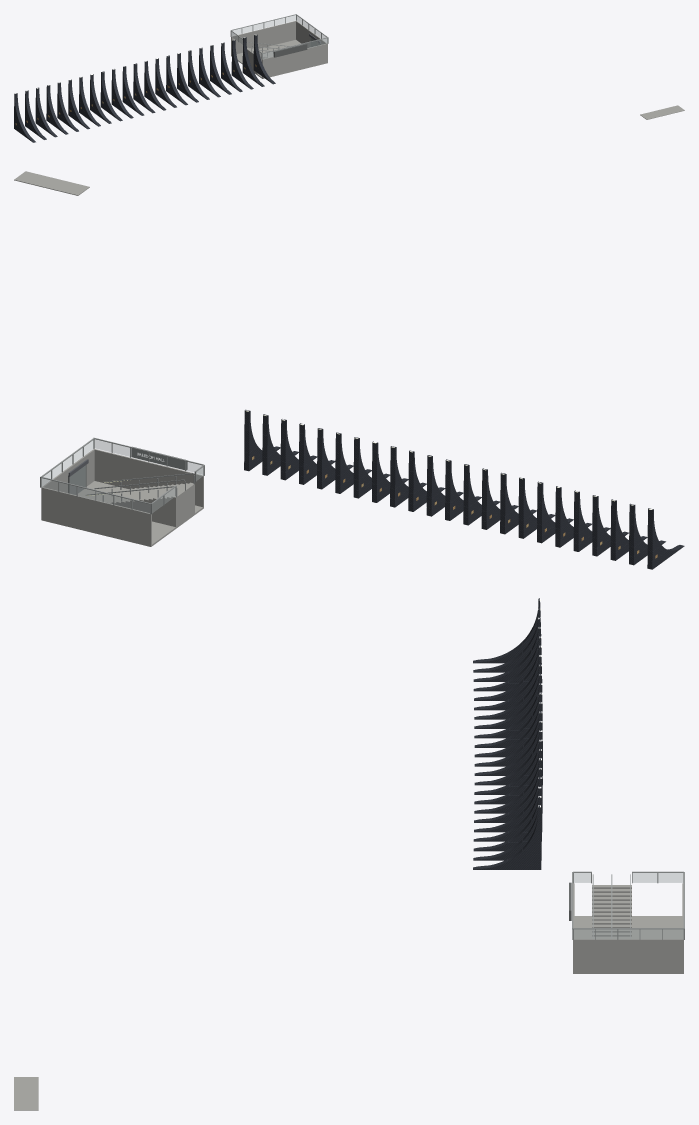
The model's file is gratitude.glb.
3 renders of one model, top to bottom at view 1: azimuth 30°, elevation 25°; view 2: azimuth 150°, elevation 25°; view 3: azimuth 270°, elevation 25°, orthographic. The views are drawn at different scales.
Visible parts, largest first — view 1: Freedom entrance side retaining walls, Freedom entrance perimeter glass guard, Freedom entrance floor, Gratitude Light 12 / South Africa / Granite fine salt and pe, Gratitude Light 04 / Netherlands / Granite fine salt and pep, Gratitude Light 10 / Turkiye / Granite fine salt and pepper, Gratitude Light 11 / Thailand / Granite fine salt and pepper, Gratitude Light 03 / Australia / Granite fine salt and peppe, Gratitude Light 22 / Germany / Granite fine salt and pepper, Gratitude Light 05 / Canada / Granite fine salt and pepper, Gratitude Light 13 / India / Granite fine salt and pepper, Gratitude Light 23 / Republic of Korea / Granite fine salt a (+18 smaller); view 2: Freedom entrance side retaining walls, Freedom entrance descending treads, Freedom entrance perimeter glass guard, Freedom entrance floor, Watercourse pedestrian bridge at crossing, Gratitude Light 01 / United States / Granite fine salt and p, Gratitude Light 18 / Ethiopia / Granite fine salt and pepper, Gratitude Light 14 / Greece / Granite fine salt and pepper, Gratitude Light 04 / Netherlands / Granite fine salt and pep, Gratitude Light 09 / Sweden / Granite fine salt and pepper, Gratitude Light 12 / South Africa / Granite fine salt and pe, Gratitude Light 15 / Belgium / Granite fine salt and pepper (+16 smaller); view 3: Freedom entrance side retaining walls, Freedom entrance descending treads, Freedom entrance floor, Gratitude Light 23 / Republic of Korea / Granite fine salt a, Freedom entrance perimeter glass guard, Watercourse pedestrian bridge at crossing.
Boxes of the visible parts, <box> form: Freedom entrance side retaining walls: <box>231,20,327,77</box>; Freedom entrance perimeter glass guard: <box>232,15,327,58</box>; Freedom entrance floor: <box>231,40,327,78</box>; Gratitude Light 12 / South Africa / Granite fine salt and pe: <box>133,63,155,113</box>; Gratitude Light 04 / Netherlands / Granite fine salt and pep: <box>46,85,68,134</box>; Gratitude Light 10 / Turkiye / Granite fine salt and pepper: <box>111,69,133,118</box>; Gratitude Light 11 / Thailand / Granite fine salt and pepper: <box>122,66,144,115</box>; Gratitude Light 03 / Australia / Granite fine salt and peppe: <box>35,87,57,137</box>; Gratitude Light 22 / Germany / Granite fine salt and pepper: <box>242,37,264,86</box>; Gratitude Light 05 / Canada / Granite fine salt and pepper: <box>57,82,78,131</box>; Gratitude Light 13 / India / Granite fine salt and pepper: <box>144,61,166,110</box>; Gratitude Light 23 / Republic of Korea / Granite fine salt a: <box>253,34,275,84</box>; Freedom entrance side retaining walls: <box>41,449,203,545</box>; Freedom entrance descending treads: <box>96,482,194,526</box>; Freedom entrance perimeter glass guard: <box>41,439,202,513</box>; Freedom entrance floor: <box>41,481,203,546</box>; Watercourse pedestrian bridge at crossing: <box>14,171,89,195</box>; Gratitude Light 01 / United States / Granite fine salt and p: <box>647,508,684,569</box>; Gratitude Light 18 / Ethiopia / Granite fine salt and pepper: <box>335,432,371,493</box>; Gratitude Light 14 / Greece / Granite fine salt and pepper: <box>408,450,445,511</box>; Gratitude Light 04 / Netherlands / Granite fine salt and pep: <box>592,495,628,556</box>; Gratitude Light 09 / Sweden / Granite fine salt and pepper: <box>500,472,536,534</box>; Gratitude Light 12 / South Africa / Granite fine salt and pe: <box>445,459,481,520</box>; Gratitude Light 15 / Belgium / Granite fine salt and pepper: <box>390,446,426,507</box>; Freedom entrance side retaining walls: <box>573,883,683,972</box>; Freedom entrance descending treads: <box>592,885,631,938</box>; Freedom entrance floor: <box>573,916,683,973</box>; Gratitude Light 23 / Republic of Korea / Granite fine salt a: <box>473,805,541,869</box>; Freedom entrance perimeter glass guard: <box>574,929,683,938</box>; Watercourse pedestrian bridge at crossing: <box>14,1077,38,1110</box>.
Size of the model in its own units: 95.79 by 9.67 by 60.38.
Materials: 10 (1 with a texture image).
